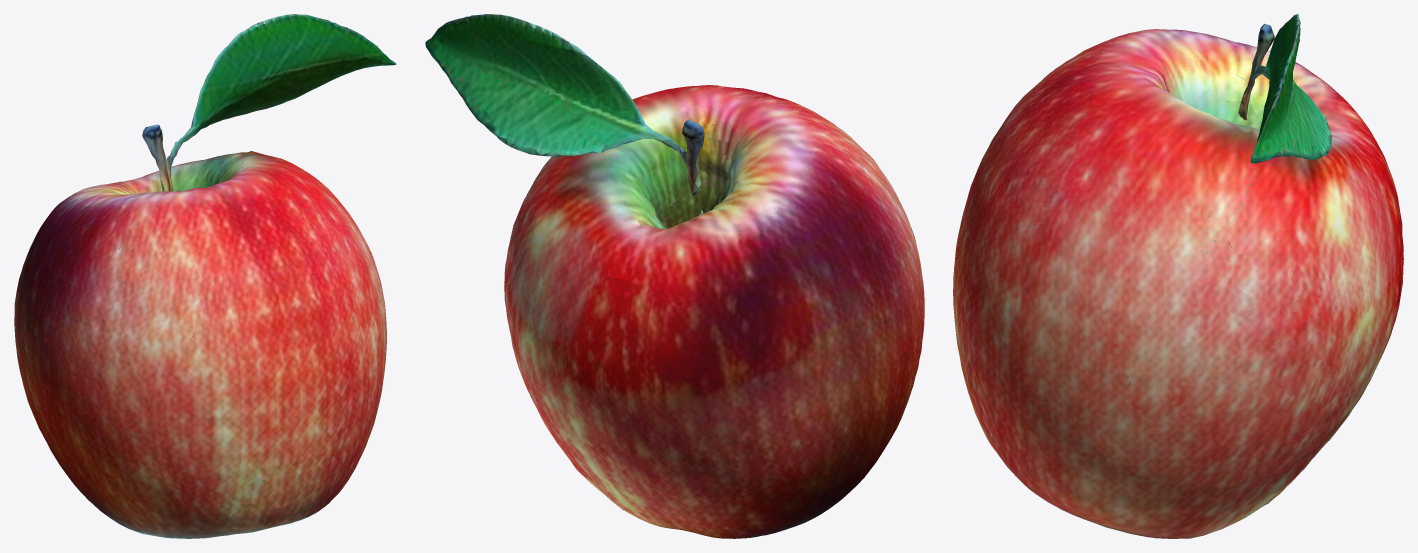
File: SPAR3D_result_20250627_015057.glb
The picture shows the model from 3 angles, left to right: view 1: azimuth 30°, elevation 25°; view 2: azimuth 150°, elevation 25°; view 3: azimuth 270°, elevation 25°; orthographic projection. The views are drawn at different scales.
Visible parts, largest first — view 1: world; view 2: world; view 3: world.
Boxes of the visible parts, x1=… form: world: x1=14, y1=14, x2=396, y2=538; world: x1=425, y1=14, x2=924, y2=538; world: x1=953, y1=14, x2=1403, y2=538.
Bounding box in the file's own units: 0.8981 × 0.9777 × 0.7285.
1 material, 1 textured.
